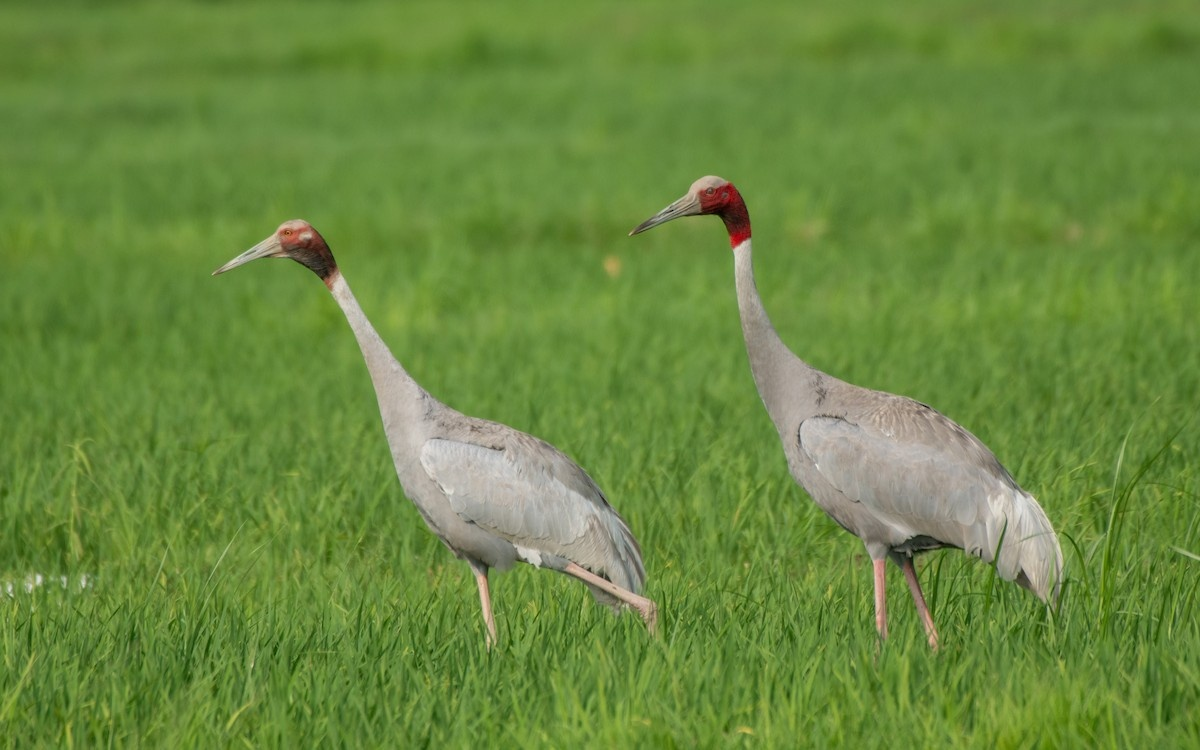crane: (627, 161, 1058, 650), (213, 206, 656, 634)
